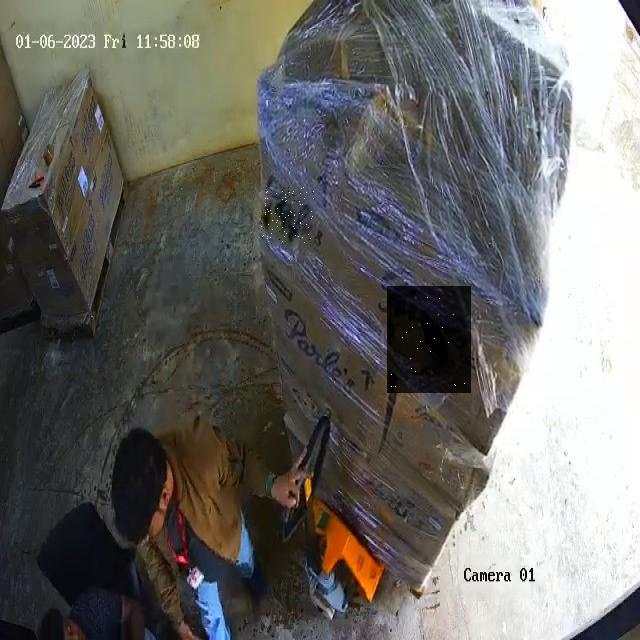leakage: (388, 287, 469, 392), (262, 188, 314, 244)
